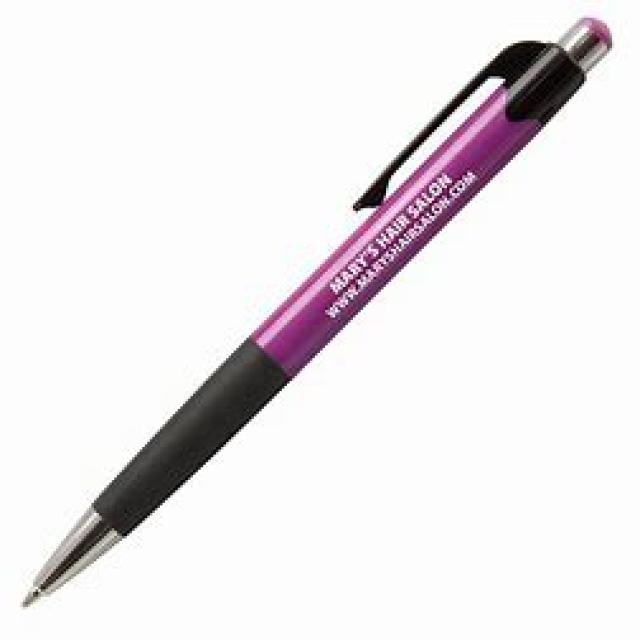pen: (20, 15, 614, 609)
